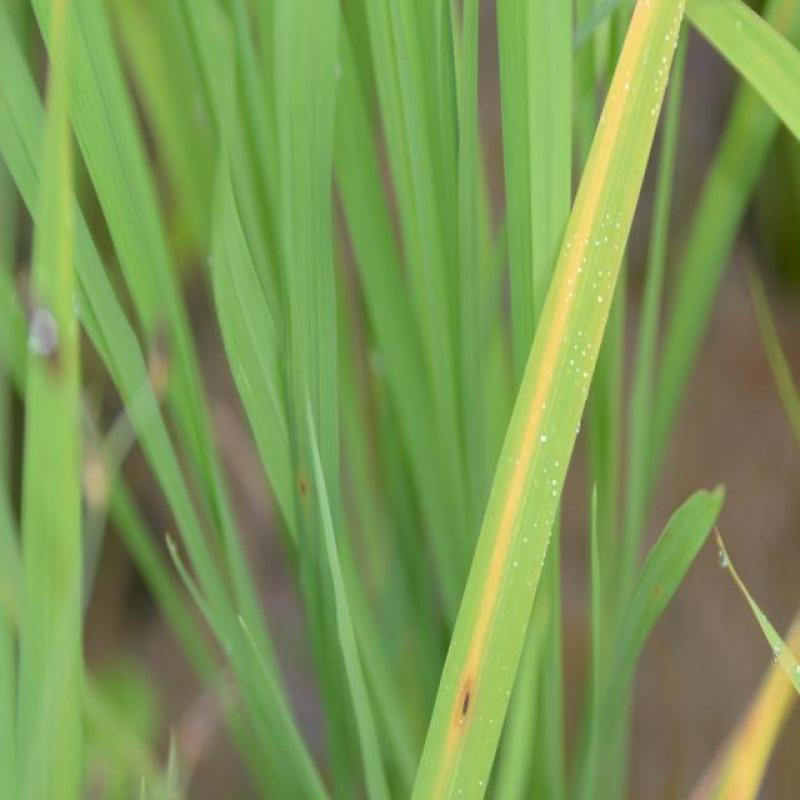Rice Tungro: (534, 182, 636, 486), (584, 17, 680, 268), (486, 345, 584, 566)
